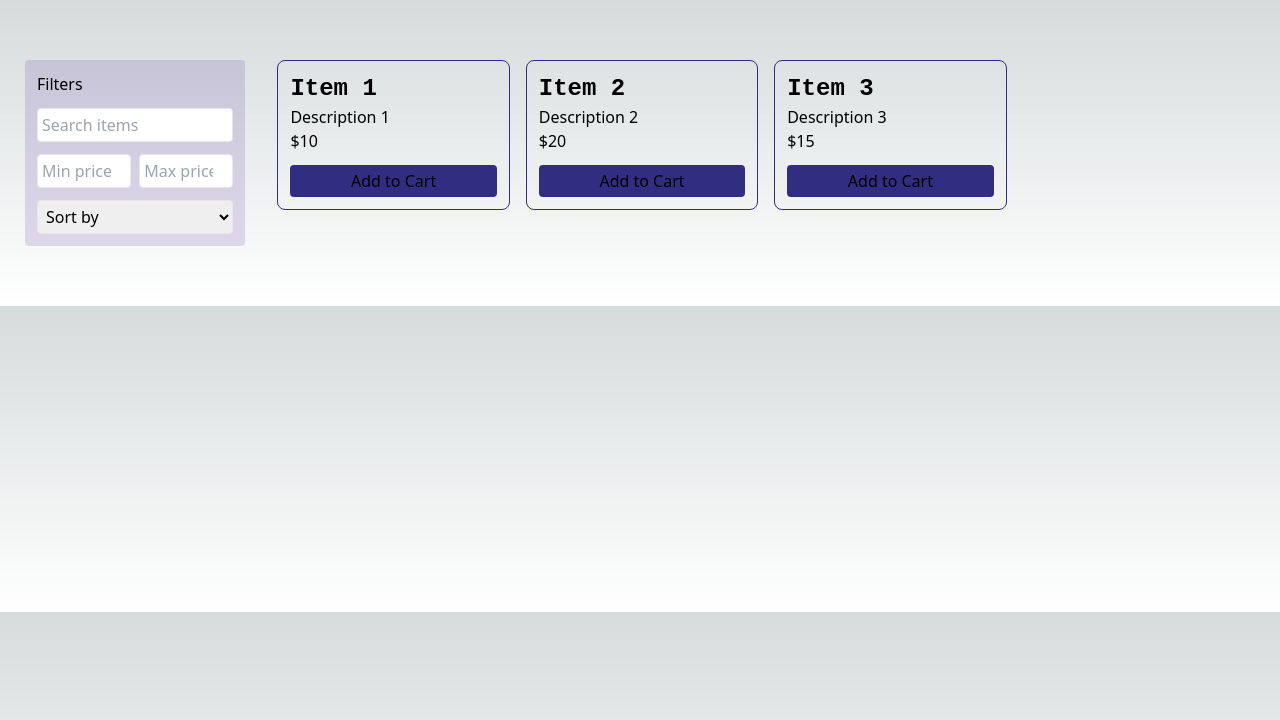
Test case: ItemList Component › filters items based on search input
The width and height of the screenshot is (1280, 720).
Expected: the heading "Item 1" is shown, [290,75,377,102]
Expected: the heading "Item 2" is shown, [539,75,625,102]
Type "Item 1" into the field with placeholder "Search items" at (135, 125), box [37,108,233,142]
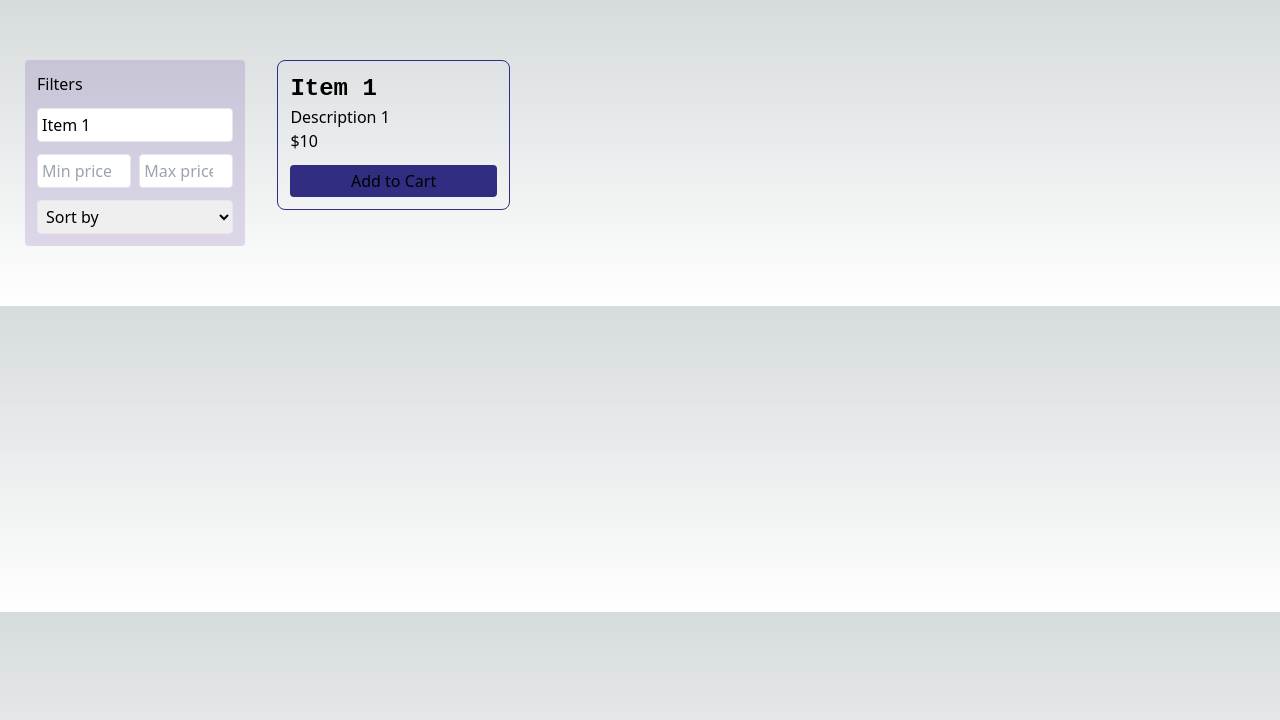
Expected: the heading "Item 1" is shown, [290,75,377,102]
Result: the heading "Item 2" is gone
Result: the heading "Item 3" is gone
Clear the field with placeholder "Search items" at (135, 125), box [37,108,233,142]
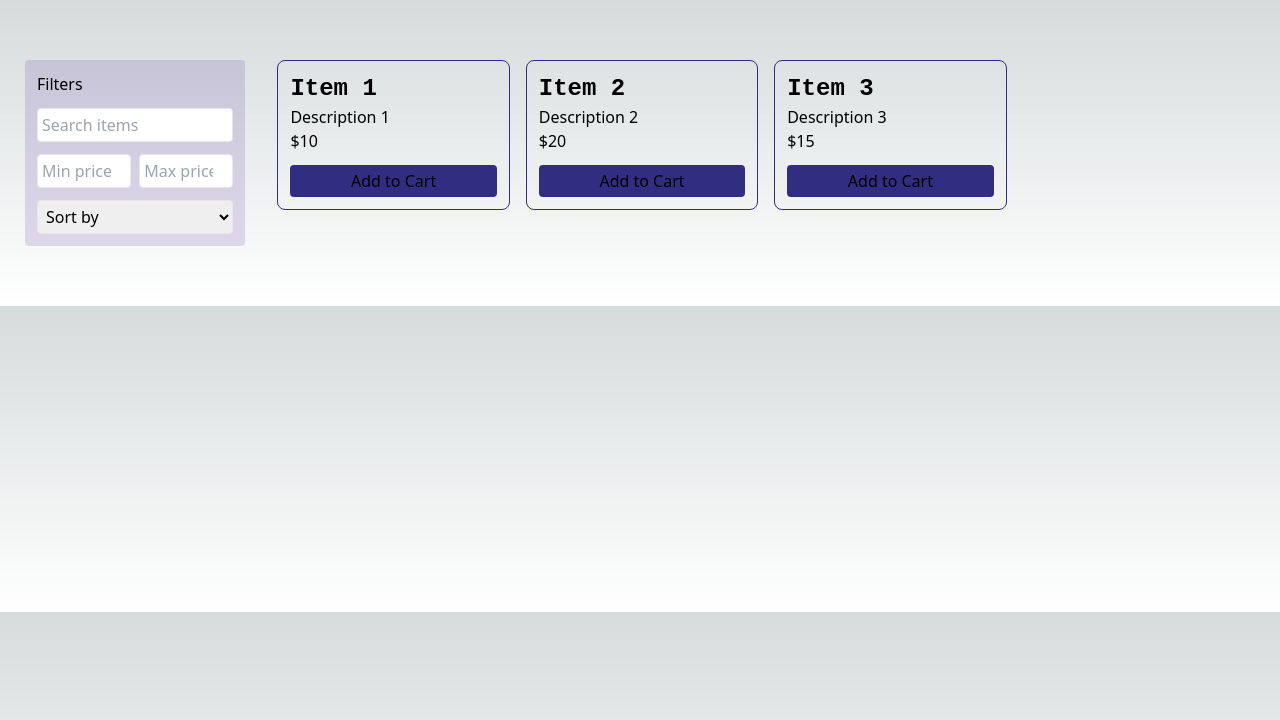
Expected: the heading "Item 1" is shown, [290,75,377,102]
Result: the heading "Item 2" is shown at [539,75,625,102]
Result: the heading "Item 3" is shown at [787,75,874,102]
